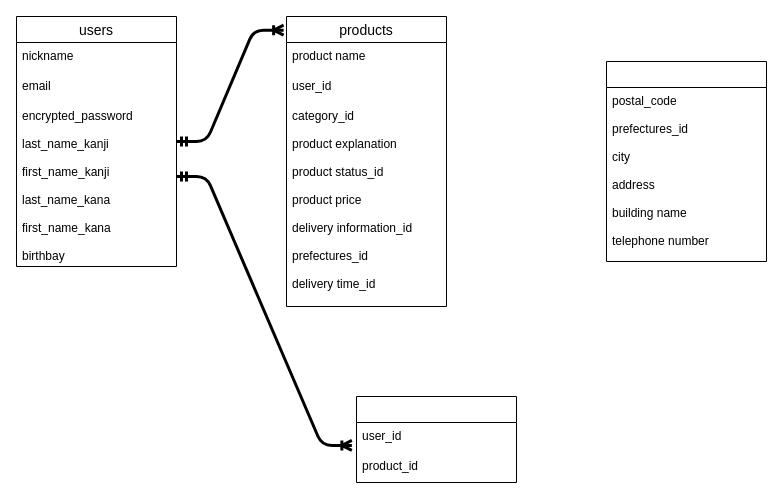
The diagram is 783 pixels wide and 499 high, and some of its shapes have lost their labels. Here are the shapes that lost their labels. From the top down, the box of each, then its label:
(606, 60, 766, 262): places
(356, 396, 516, 482): purchase records
